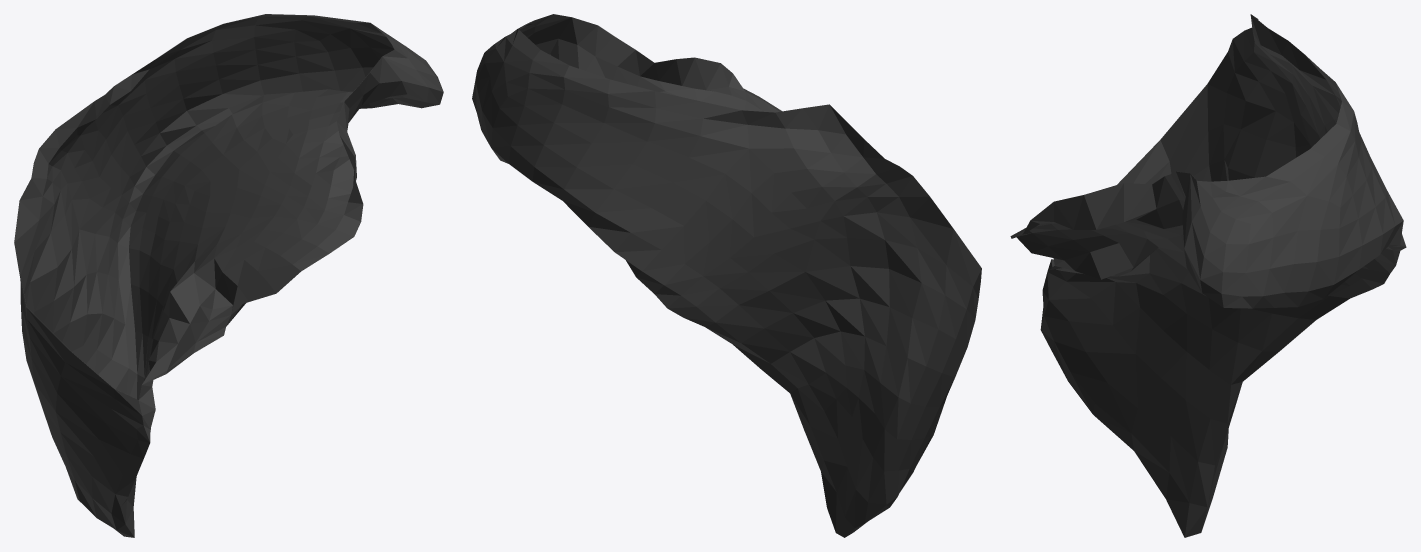
File: Lung_R_accessory_lobe.glb
3 renders of one model, left to right at view 1: azimuth 30°, elevation 25°; view 2: azimuth 150°, elevation 25°; view 3: azimuth 270°, elevation 25°, orthographic. The views are drawn at different scales.
Visible parts, largest first — view 1: Lung_R_accessory_lobe; view 2: Lung_R_accessory_lobe; view 3: Lung_R_accessory_lobe.
Boxes of the visible parts, <box> form: Lung_R_accessory_lobe: <box>14,14,443,537</box>; Lung_R_accessory_lobe: <box>472,14,981,537</box>; Lung_R_accessory_lobe: <box>1010,14,1406,537</box>.
Size of the model in its own units: 0.6736 by 0.6316 by 0.4279.
1 material, 1 textured.
